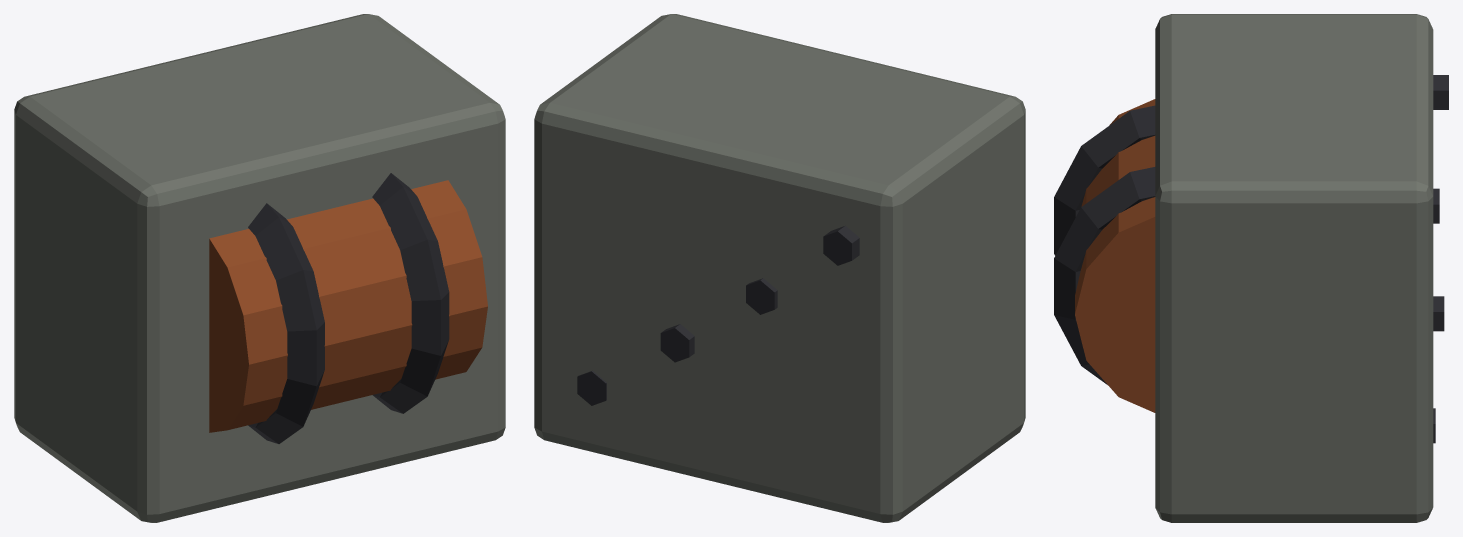
Rendered from mo_targeting.glb.
3 renders of one model, left to right at view 1: azimuth 30°, elevation 25°; view 2: azimuth 150°, elevation 25°; view 3: azimuth 270°, elevation 25°, orthographic.
Visible parts, largest first — view 1: mo_targeting; view 2: mo_targeting; view 3: mo_targeting.
Boxes of the visible parts, bbox=[...] form: mo_targeting: bbox=[14, 14, 505, 522]; mo_targeting: bbox=[534, 14, 1025, 522]; mo_targeting: bbox=[1054, 14, 1448, 522].
Size of the model in its own units: 0.1336 by 0.1175 by 0.1233.
